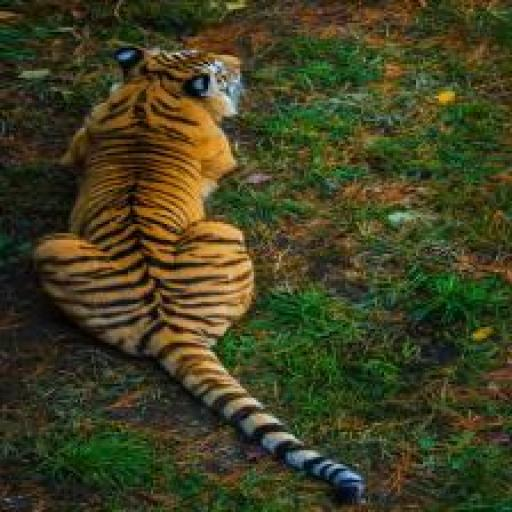Tiger: (9, 39, 433, 512)
